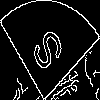S: (25, 25, 66, 81)
